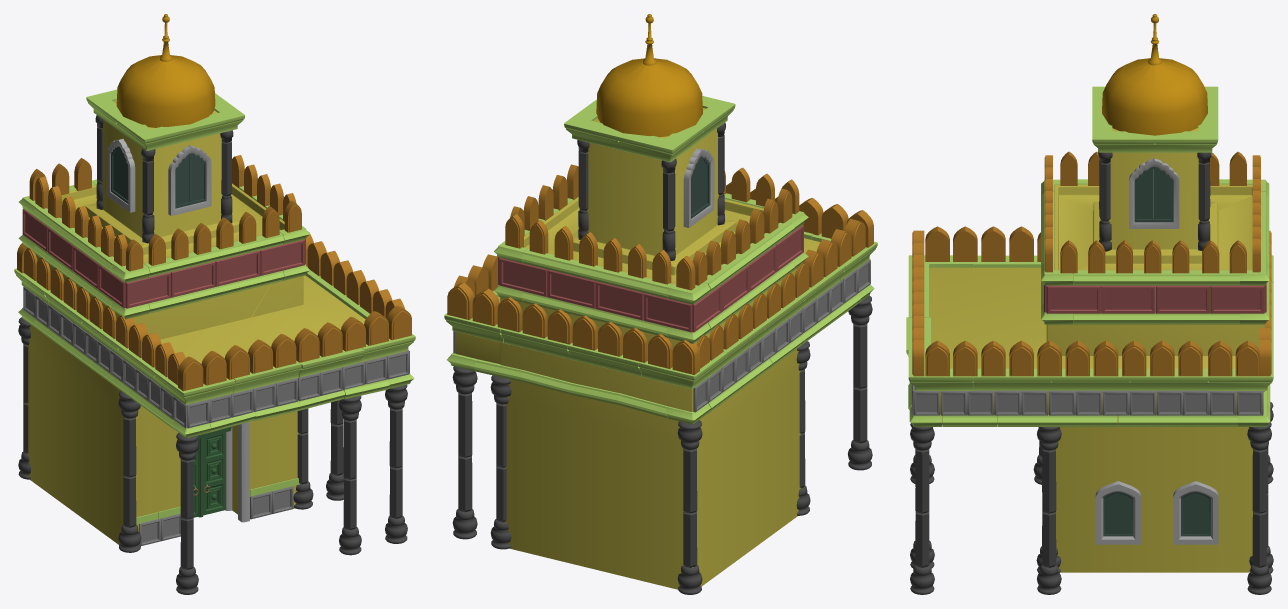
The model's file is SM_building_mosque.fbx.
The picture shows the model from 3 angles, left to right: view 1: azimuth 30°, elevation 25°; view 2: azimuth 150°, elevation 25°; view 3: azimuth 270°, elevation 25°; orthographic projection. The views are drawn at different scales.
Visible parts, largest first — view 1: Object32674; view 2: Object32674; view 3: Object32674.
Boxes of the visible parts, x1,y1,x2,y2 form: Object32674: [14, 14, 415, 594]; Object32674: [444, 14, 877, 594]; Object32674: [906, 14, 1273, 594].
Bounding box in the file's own units: 309 × 605 × 394.
